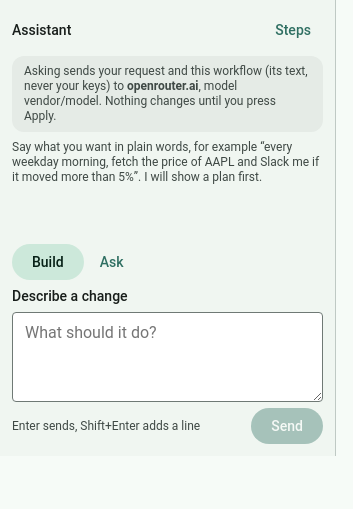
Test: AssistantPanel › applies the plan's ops against the revision it was made for, marks what is new, and refreshes
Type "do it" into the text box labelled "Describe a change" at coordinates (168, 357), box [12, 312, 323, 402]
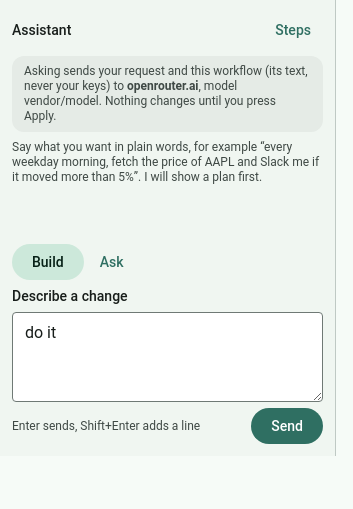
Click the button "Send" at coordinates (287, 426), box [251, 408, 323, 444]
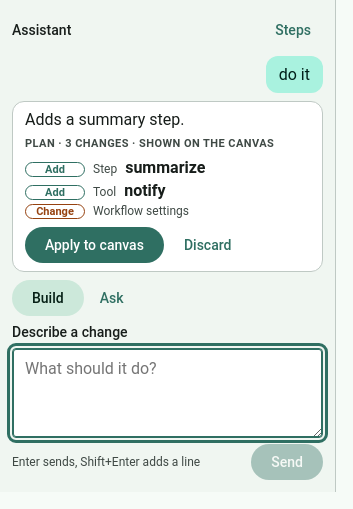
Result: the element named "Proposed plan" is shown at [12, 101, 323, 272]
Click the button "Apply to canvas" at coordinates (94, 245), box [25, 227, 164, 263]
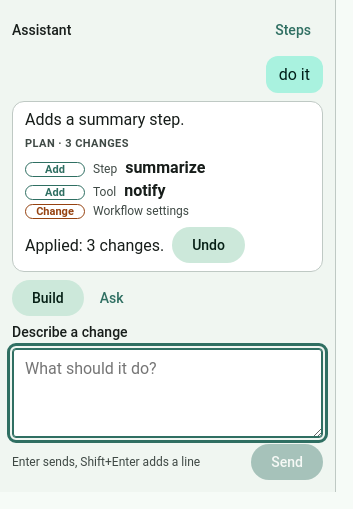
Result: the text "Applied: 3 changes." is shown at [25, 236, 164, 254]
